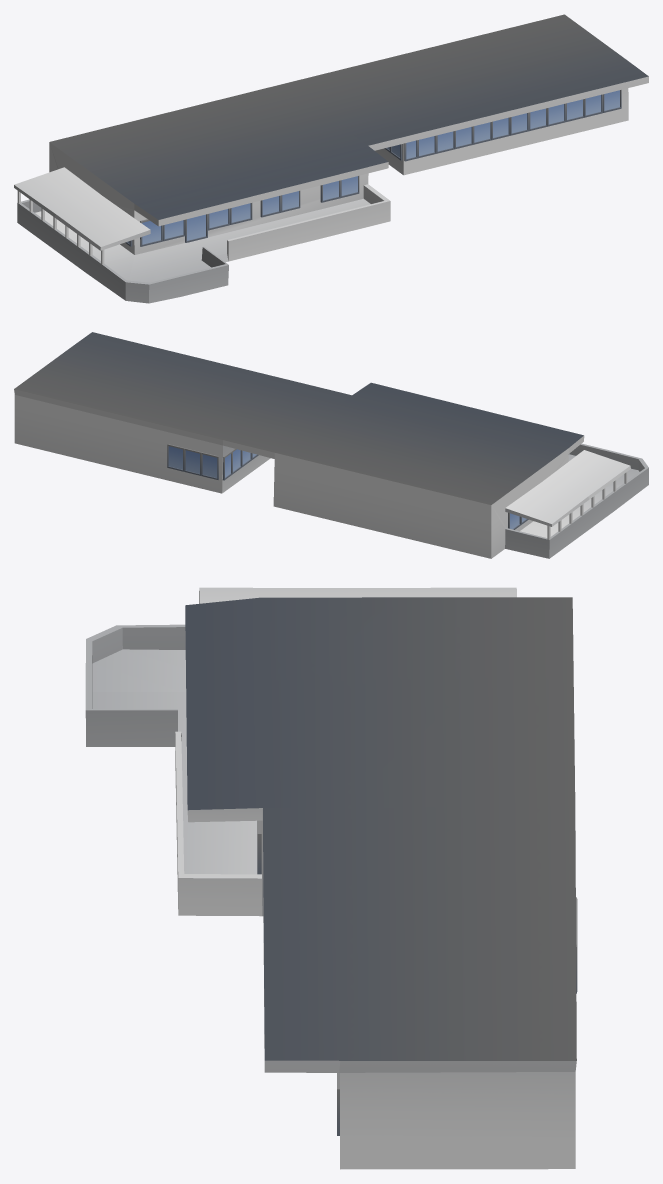
File: ravintola_old_story.fbx
3 views of the same model, one above another, from view 1: azimuth 30°, elevation 25°; view 2: azimuth 150°, elevation 25°; view 3: azimuth 270°, elevation 25° (orthographic). The views are drawn at different scales.
Parts seen in each view (by area): view 1: ravintola_old_story; view 2: ravintola_old_story; view 3: ravintola_old_story.
Part boxes in pixels (bbox=[...]): ravintola_old_story: bbox=[14, 14, 648, 303]; ravintola_old_story: bbox=[14, 332, 648, 558]; ravintola_old_story: bbox=[85, 587, 577, 1169].
Bounding box in the file's own units: 127 × 12.59 × 51.52.
